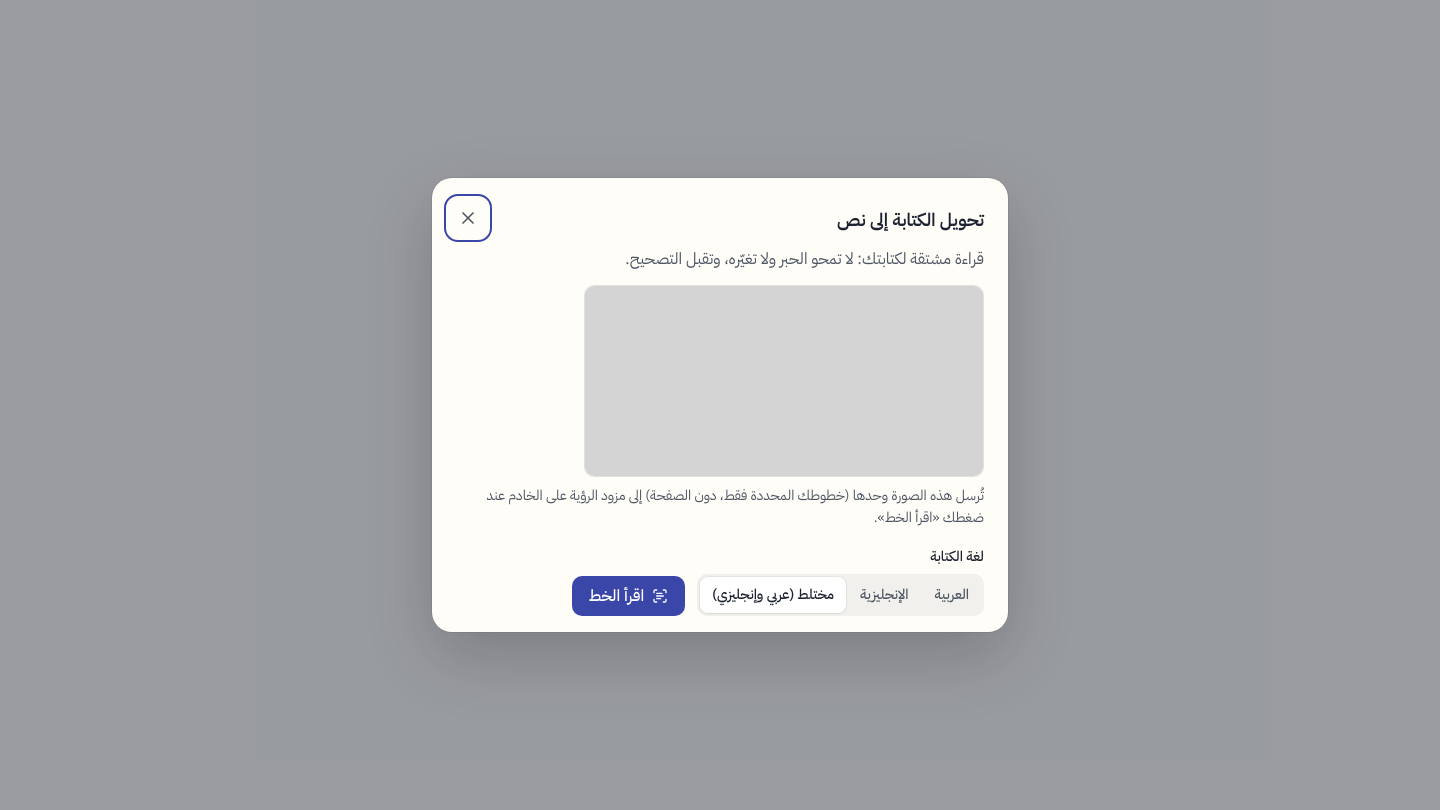
Scenario: «تحويل إلى نص» › an abstention says why and the owner can type what it says
The width and height of the screenshot is (1440, 810).
Click the button "اقرأ الخط" at (628, 596), box left=572, top=576, right=685, bottom=616
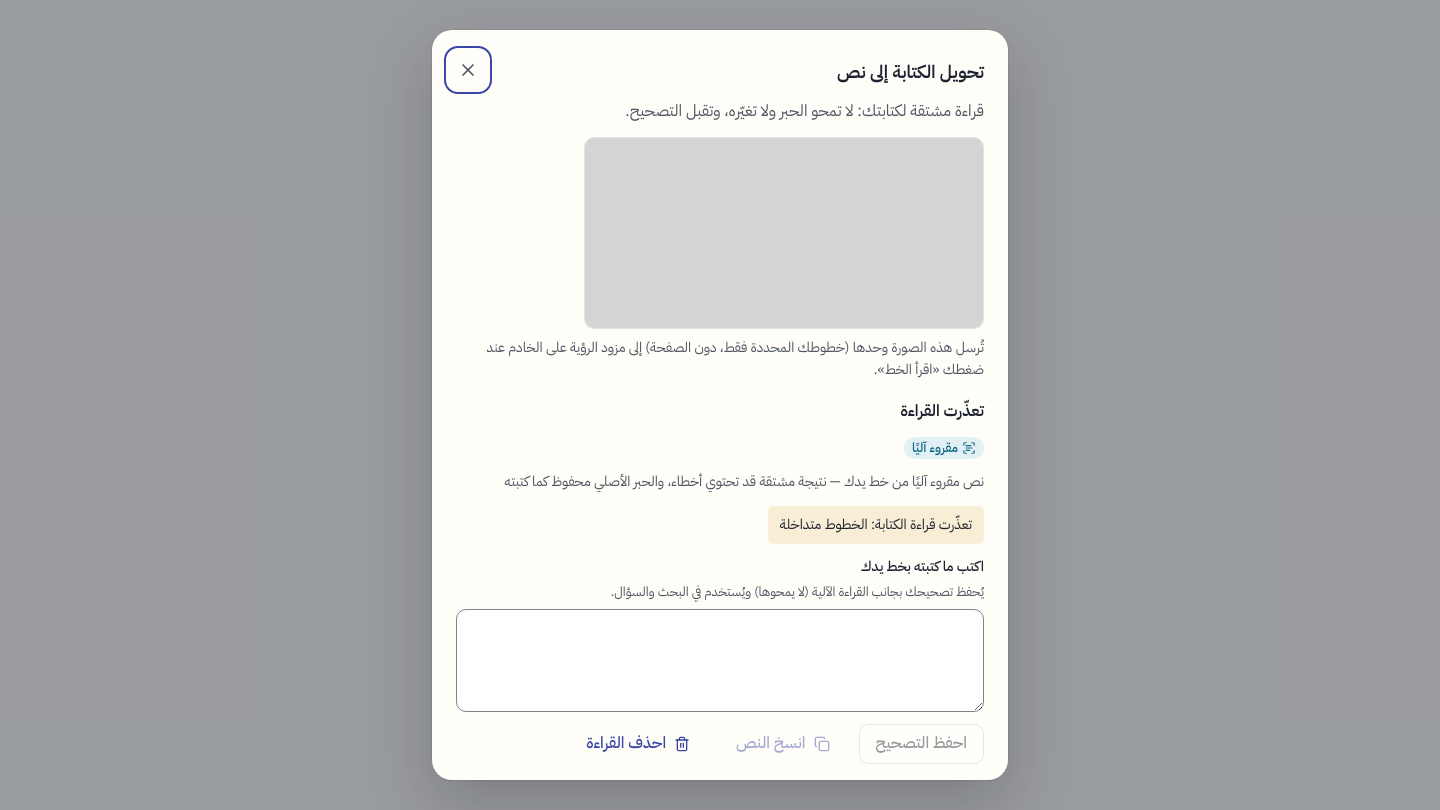
expect the heading "تعذّرت القراءة" is shown: met, box left=900, top=398, right=984, bottom=425
expect the text "تعذّرت قراءة الكتابة: الخطوط متداخلة" is shown: met, box left=768, top=506, right=984, bottom=544
expect the text box labelled "اكتب ما كتبته بخط يدك" is shown: met, box left=456, top=608, right=984, bottom=712
